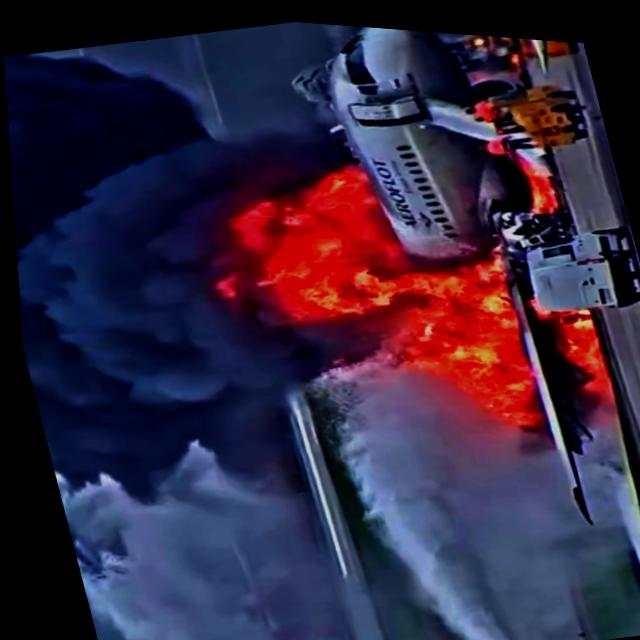fire: (206, 161, 414, 331), (388, 246, 533, 428)
smoke: (3, 61, 275, 427)
